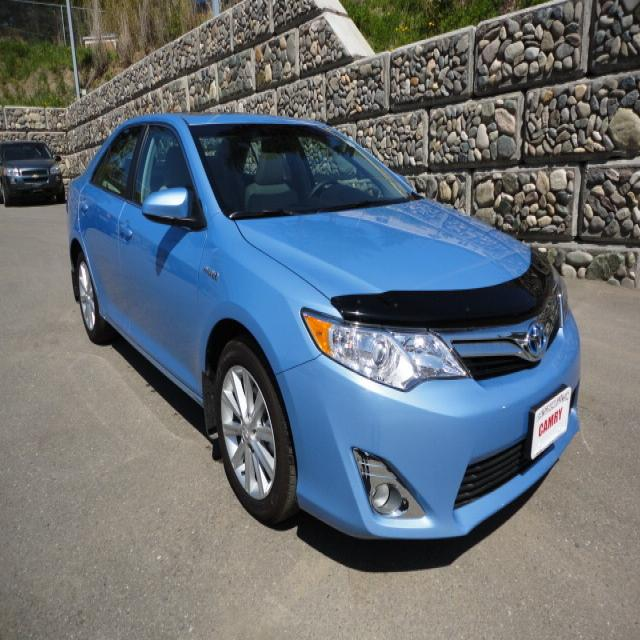car: (63, 115, 585, 553), (0, 133, 64, 208)
